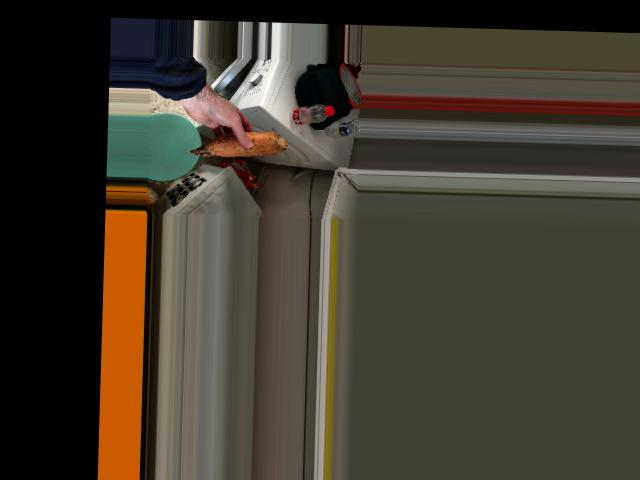sweet_potato: (188, 122, 292, 165)
